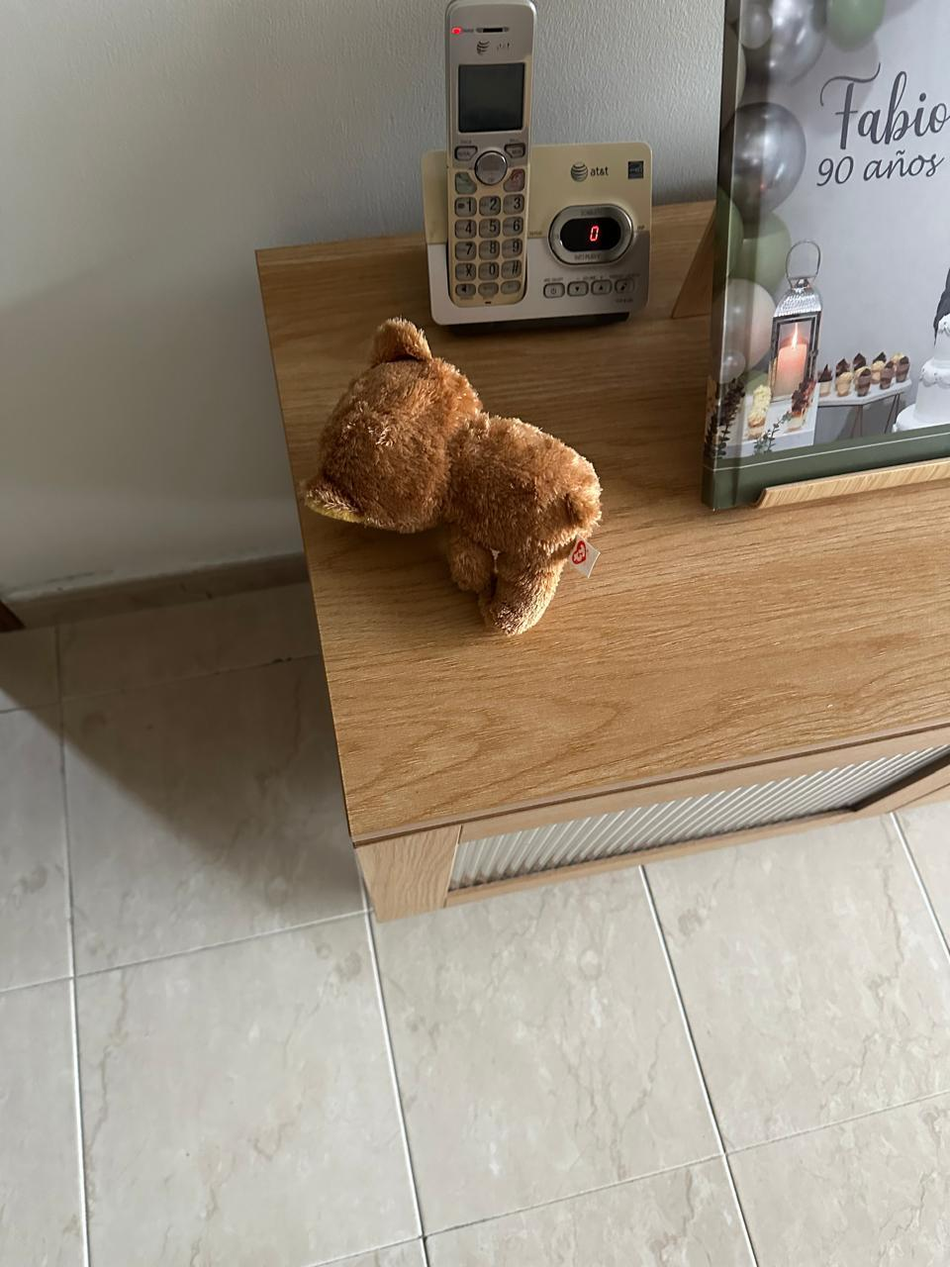peluche_sebastian: (294, 314, 601, 648)
